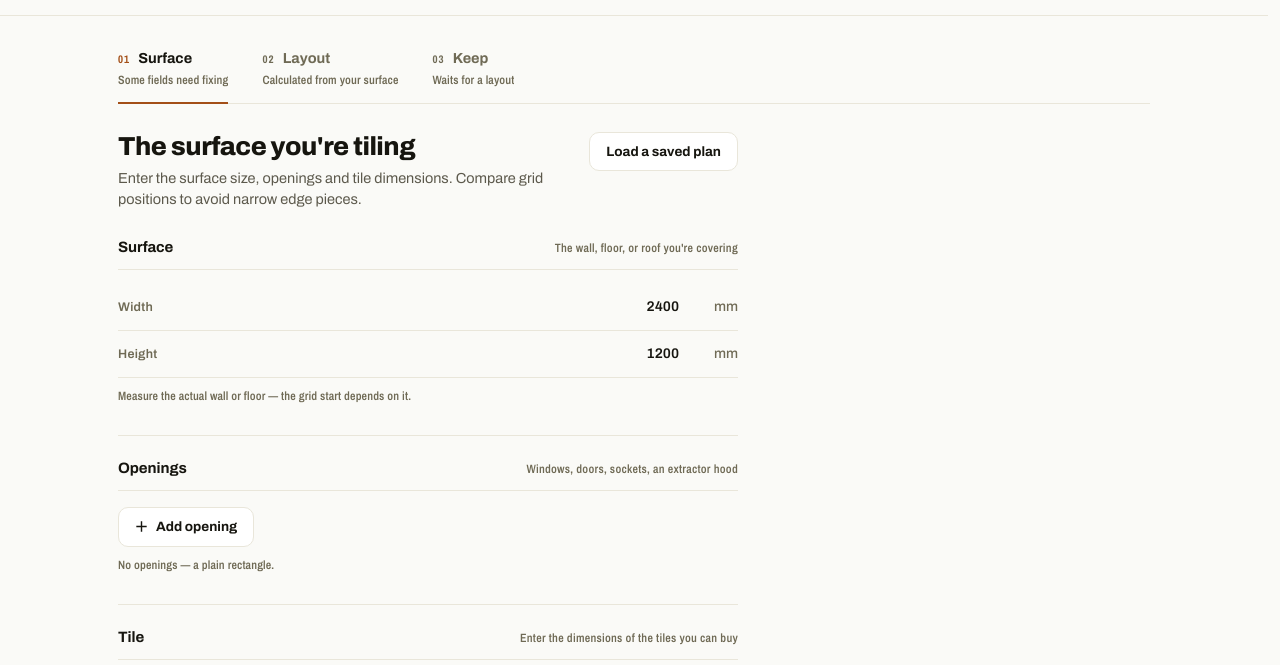
Test: the demo warning for large diagonal layouts › warns in the demo
Replace the text in the number field named "Surface width" with "6000" at (463, 307), box [228,292,698,322]
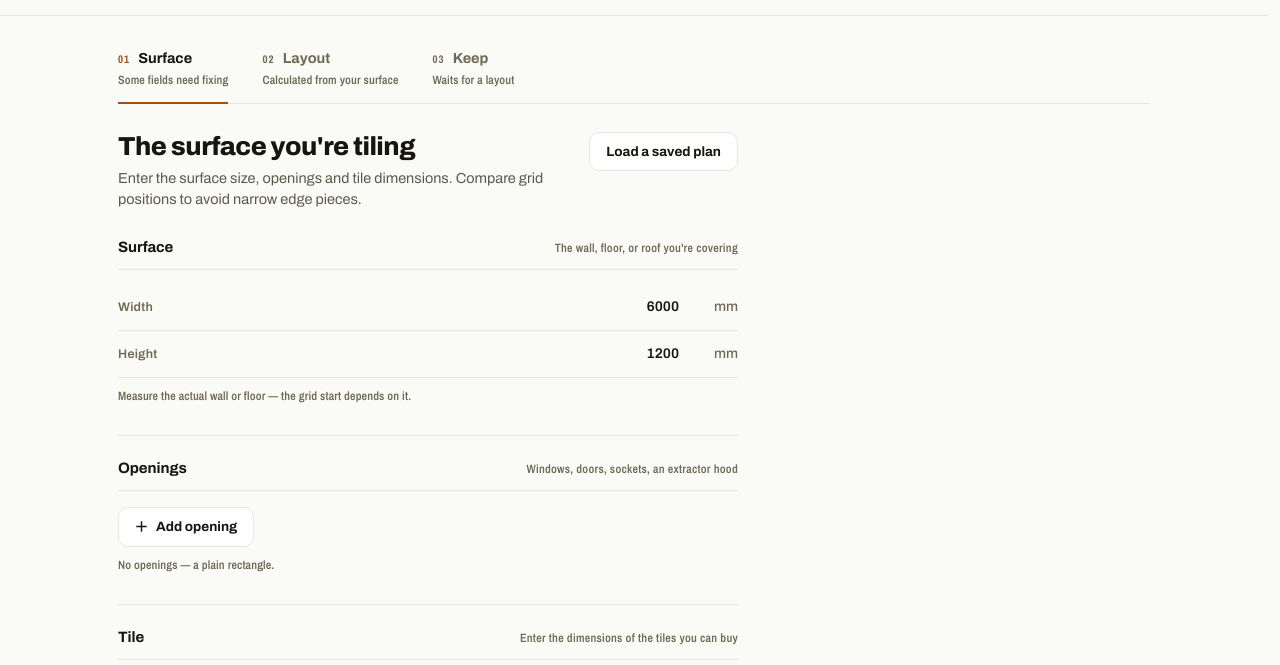
Replace the text in the number field named "Surface height" with "4500" at (463, 354), box [228,339,698,369]
(page scrolled)
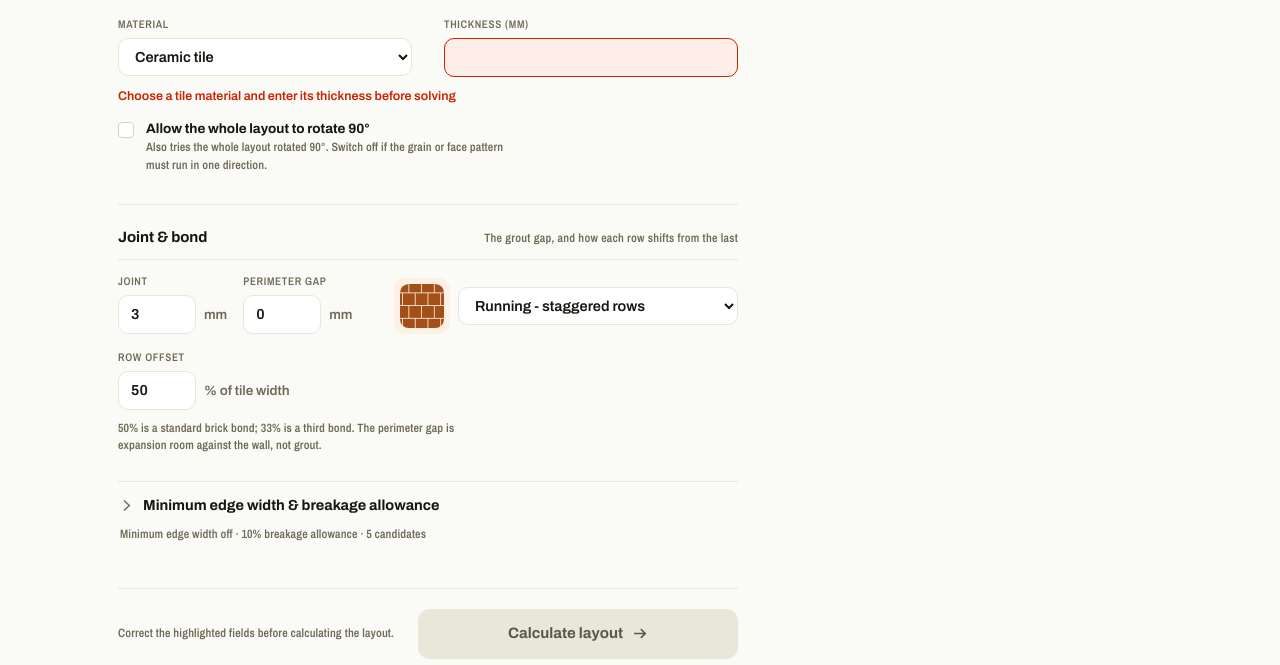
Select "Diagonal - tiles rotated 45°" in the dropdown with id "tile-bond" at (598, 306), box [458,287,738,325]
(page scrolled)
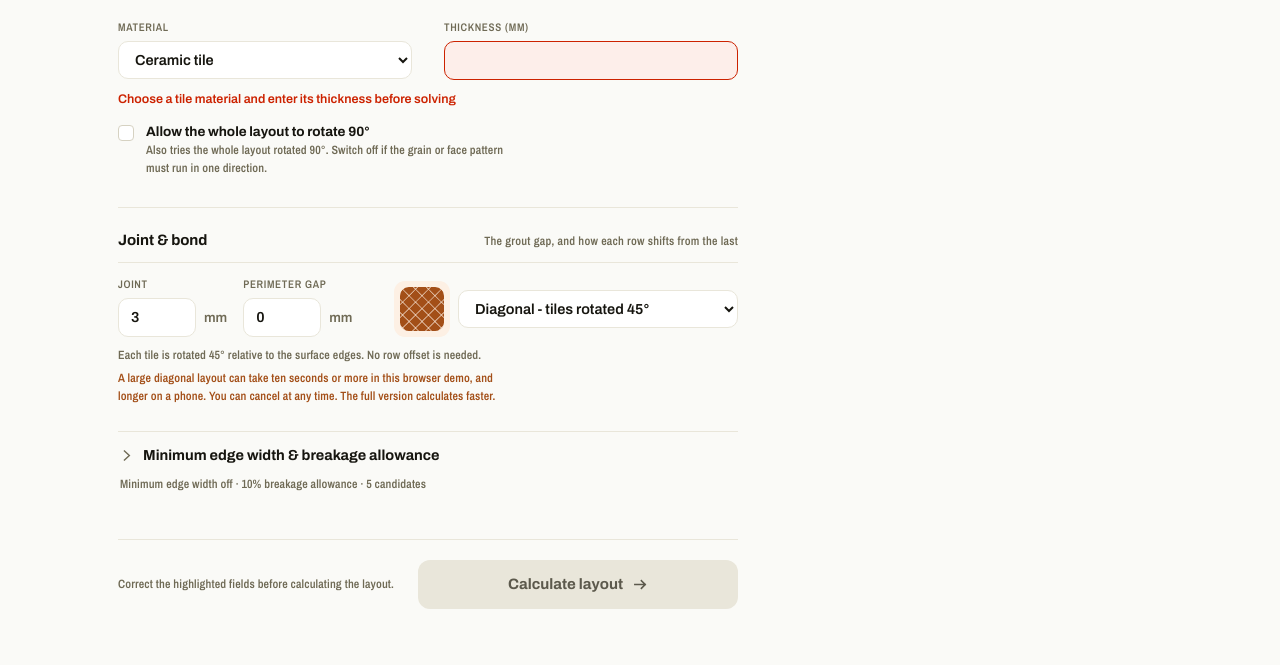
expect the text "can take ten seconds or more" is shown: met, box [118,370,495,404]
